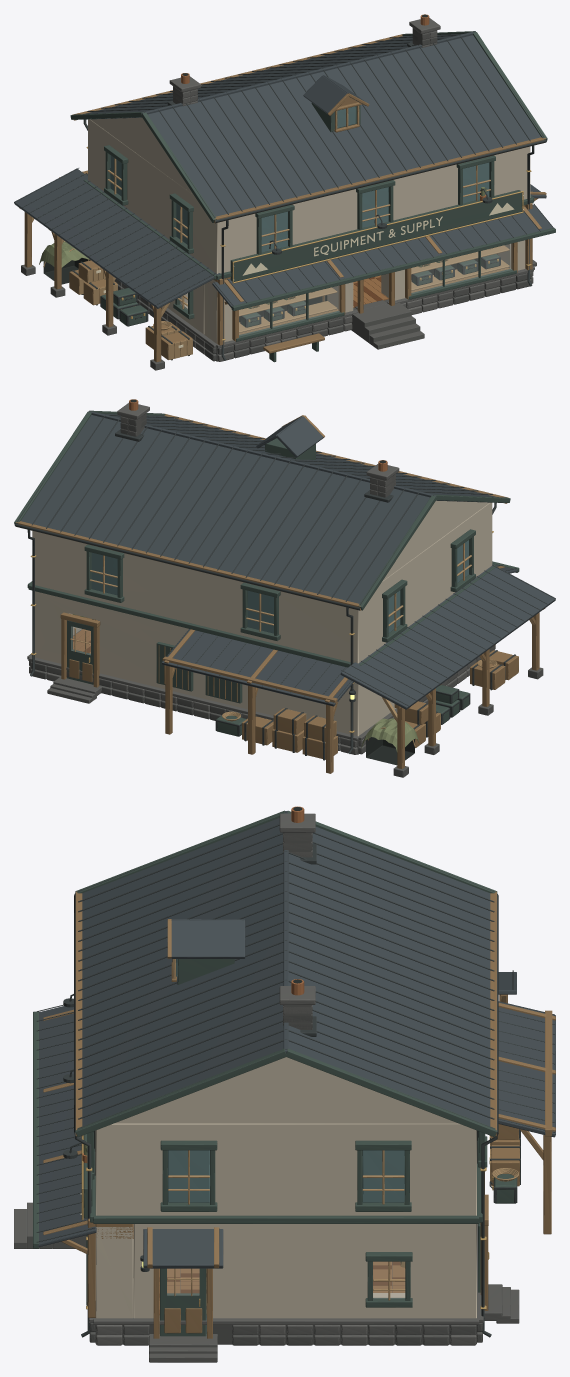
The model's file is SM_GrahamShop_Blockout.fbx.
The picture shows the model from 3 angles, top to bottom: view 1: azimuth 30°, elevation 25°; view 2: azimuth 150°, elevation 25°; view 3: azimuth 270°, elevation 25°; orthographic projection. The views are drawn at different scales.
Visible parts, largest first — view 1: Main roof slope.002, Upper storey plaster.001, Side storage canopy.001, Front metal awning.001, Shop sign board.001, Main roof slope.003, Clear shop glazing.003, Clear shop glazing.002, Plastered gable.002, Front awning fascia.001, Eave fascia.002, Ridge cap.001 (+30 smaller); view 2: Main roof slope.003, Upper storey plaster.001, Side storage canopy.001, Ground floor rear core.001, Rear receiving canopy.001, Main roof slope.002, Plastered gable.002, Floor belt.005, Eave fascia.003, Rain gutter.003, Plinth coping.005, Ridge cap.001 (+24 smaller); view 3: Main roof slope.003, Main roof slope.002, Upper storey plaster.001, Ground floor rear core.001, Plastered gable.003, Front metal awning.001, Rear receiving canopy.001, Shop pier.007, Floor belt.007, Dormer roof.003, Private entrance canopy.001, Plinth coping.007 (+22 smaller).
Part boxes in pixels (x1,y1,x2,y2): Main roof slope.002: (147, 35, 540, 216); Upper storey plaster.001: (88, 119, 530, 273); Side storage canopy.001: (14, 168, 220, 308); Front metal awning.001: (212, 204, 552, 308); Shop sign board.001: (230, 190, 521, 281); Main roof slope.003: (75, 34, 462, 119); Clear shop glazing.003: (411, 244, 511, 293); Clear shop glazing.002: (239, 286, 339, 335); Plastered gable.002: (90, 117, 193, 194); Front awning fascia.001: (231, 228, 555, 310); Eave fascia.002: (214, 137, 545, 223); Ridge cap.001: (142, 31, 475, 114); Main roof slope.003: (21, 415, 430, 603); Upper storey plaster.001: (32, 502, 492, 663); Side storage canopy.001: (340, 564, 555, 709); Ground floor rear core.001: (35, 591, 396, 736); Rear receiving canopy.001: (161, 629, 353, 706); Main roof slope.002: (102, 413, 503, 502); Plastered gable.002: (383, 500, 489, 580); Floor belt.005: (28, 584, 353, 667); Eave fascia.003: (16, 521, 360, 610); Rain gutter.003: (15, 523, 359, 610); Plinth coping.005: (28, 656, 358, 740); Ridge cap.001: (89, 411, 436, 497); Main roof slope.003: (288, 827, 490, 1126); Main roof slope.002: (82, 818, 283, 1126); Upper storey plaster.001: (95, 1123, 476, 1215); Ground floor rear core.001: (133, 1224, 476, 1318); Plastered gable.003: (114, 1057, 458, 1123); Front metal awning.001: (37, 1006, 96, 1246); Rear receiving canopy.001: (498, 1002, 555, 1137); Shop pier.007: (95, 1227, 133, 1318); Floor belt.007: (93, 1215, 479, 1223); Dormer roof.003: (171, 920, 245, 958); Private entrance canopy.001: (143, 1229, 223, 1268); Plinth coping.007: (93, 1318, 479, 1324).
Bounding box in the file's own units: 1823 × 1421 × 975.
